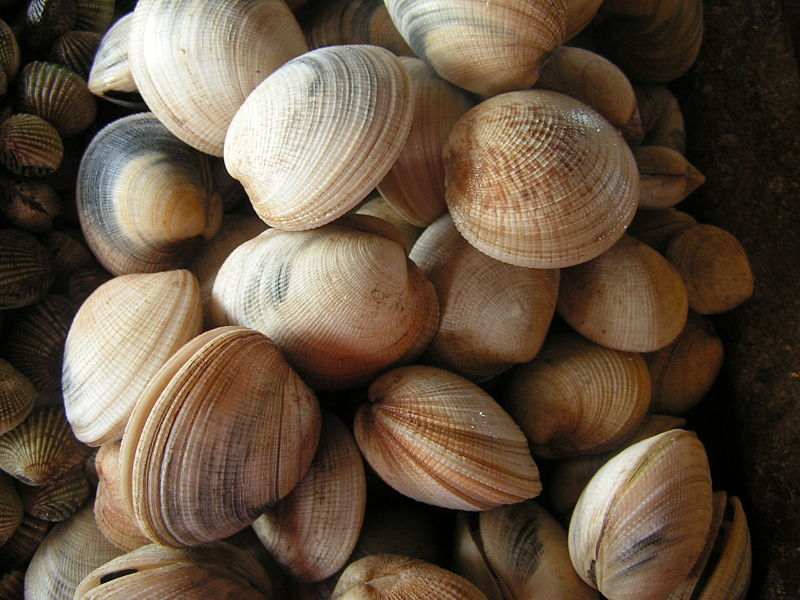cockle: (113, 316, 324, 552), (221, 39, 417, 231), (206, 223, 443, 381), (442, 88, 641, 268), (352, 361, 548, 517), (125, 2, 310, 158), (53, 266, 204, 450), (71, 111, 231, 278), (403, 207, 562, 375), (566, 424, 714, 600), (381, 1, 610, 100), (251, 407, 370, 585), (487, 340, 655, 453), (559, 234, 692, 356), (379, 52, 463, 232), (449, 504, 589, 600), (569, 2, 715, 85), (69, 541, 273, 600), (534, 39, 649, 139), (668, 483, 755, 600), (24, 502, 116, 600), (327, 548, 491, 600), (670, 221, 753, 314), (653, 324, 732, 419), (86, 9, 147, 114), (630, 132, 699, 208)
